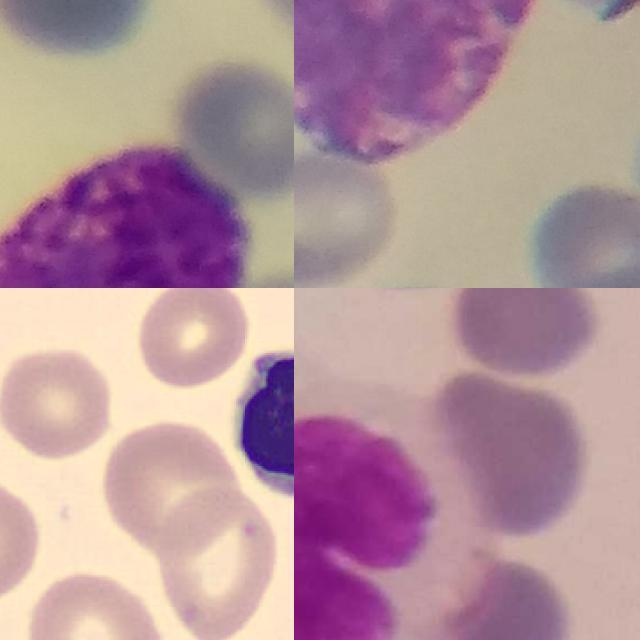Basophil: (294, 0, 545, 171), (0, 139, 251, 288)
Lymphocyte: (220, 331, 294, 508)
Monocyte: (294, 365, 495, 640)
RBC: (98, 415, 244, 558), (152, 481, 282, 640), (0, 338, 119, 462), (129, 288, 253, 393), (19, 564, 166, 640), (0, 471, 46, 610)
